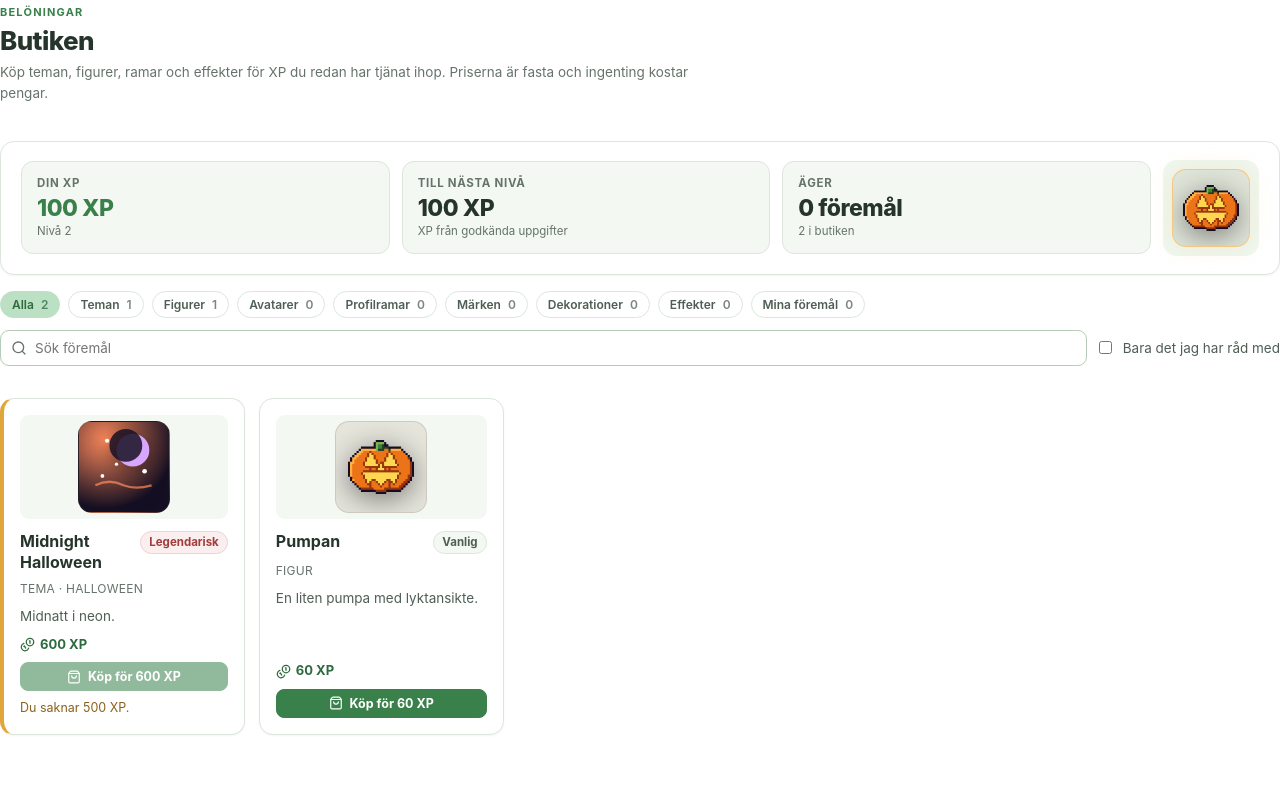
ElevButik › köper ett föremål efter bekräftelse och visar det nya saldot
The width and height of the screenshot is (1280, 800).
Expected: the heading "Pumpan" is shown, [276,531,340,552]
Click the button "Köp för 60 XP".
click(381, 704)  # box [276,689,487,718]
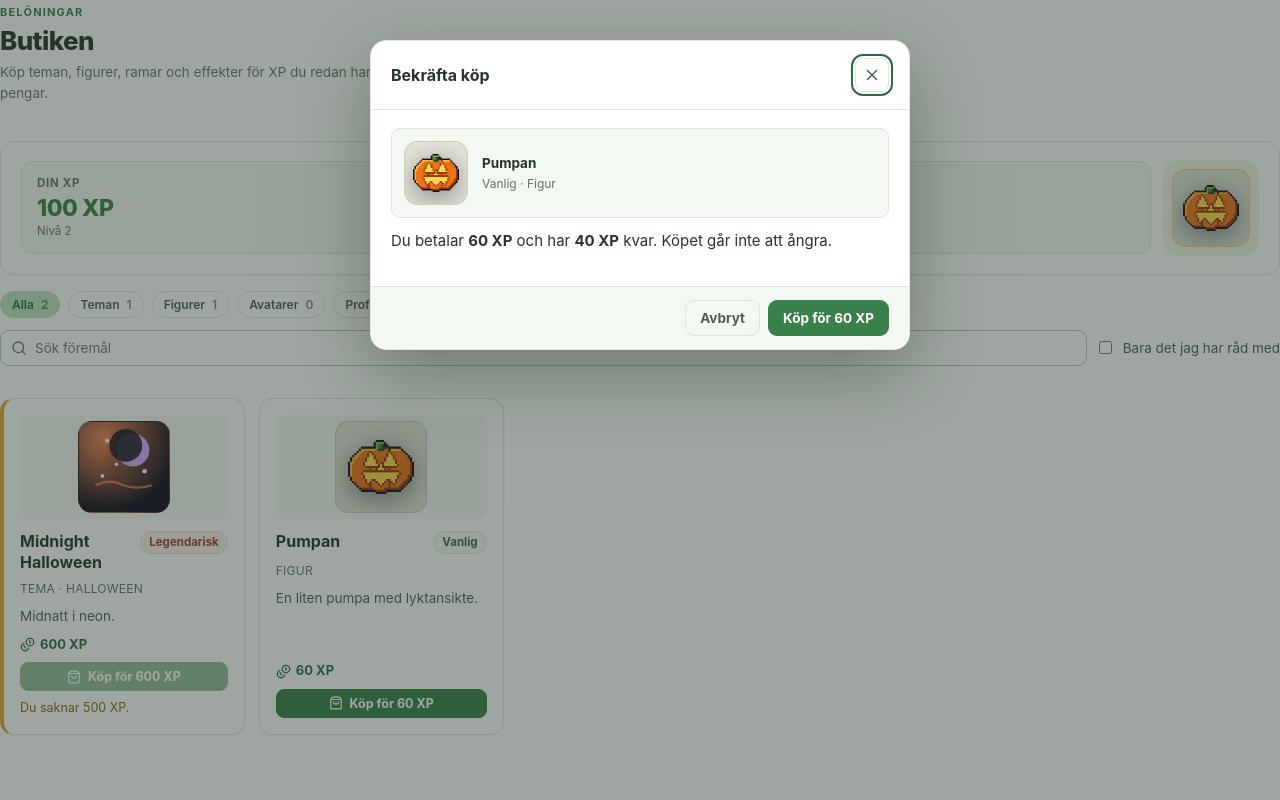
Expected: the heading "Bekräfta köp" is shown, [391,63,490,87]
Click the button "Köp för 60 XP".
click(828, 318)  # box [768,300,889,336]
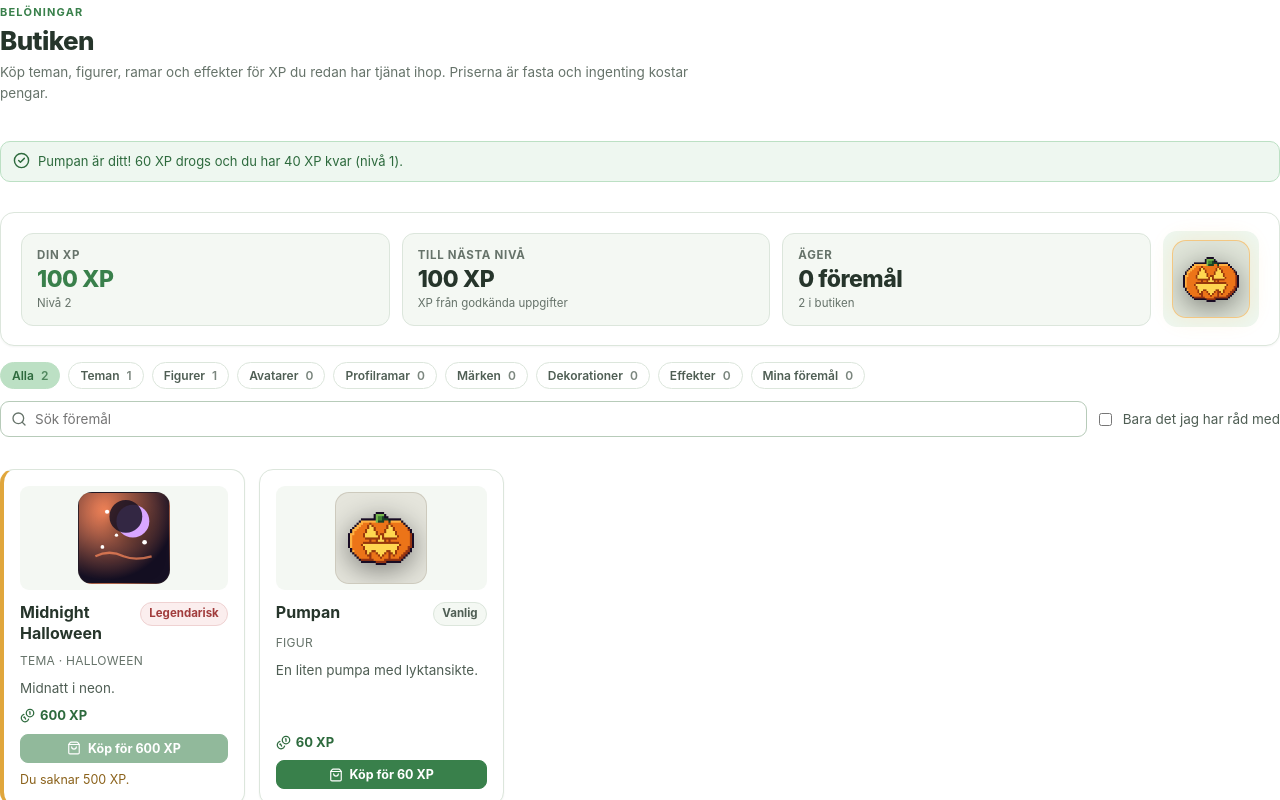
Expected: the text "Pumpan är ditt! 60 XP drogs och du har 40 XP kvar (nivå 1)." is shown, [38,152,403,171]
